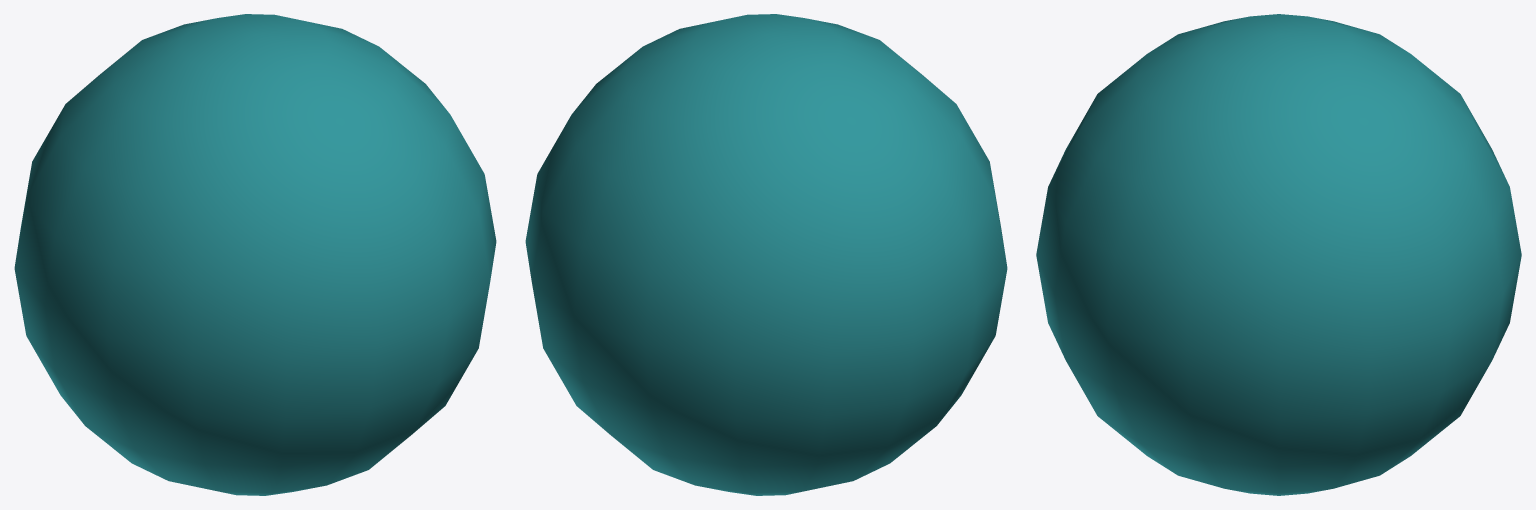
The picture shows the model from 3 angles, left to right: view 1: azimuth 30°, elevation 25°; view 2: azimuth 150°, elevation 25°; view 3: azimuth 270°, elevation 25°; orthographic projection.
Visible parts, largest first — view 1: sphere-graffitiCyan; view 2: sphere-graffitiCyan; view 3: sphere-graffitiCyan.
Part boxes in pixels (x1,y1,x2,y2): sphere-graffitiCyan: [14, 14, 496, 495]; sphere-graffitiCyan: [525, 14, 1007, 495]; sphere-graffitiCyan: [1036, 14, 1521, 495].
Bounding box in the file's own units: 1 × 1 × 1.
